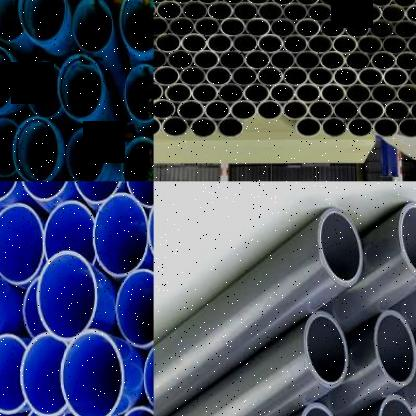pipe: (59, 328, 123, 416), (36, 251, 98, 341), (93, 192, 149, 277), (20, 333, 67, 416), (0, 203, 44, 284), (44, 200, 97, 266), (318, 209, 363, 286), (304, 310, 348, 388), (373, 310, 416, 388), (12, 116, 60, 182), (115, 269, 154, 348), (57, 54, 102, 119), (0, 333, 27, 415), (65, 127, 105, 181), (71, 0, 111, 52), (25, 62, 62, 117), (18, 0, 65, 42), (119, 0, 153, 52), (124, 64, 154, 121), (122, 136, 154, 181), (398, 202, 416, 280), (71, 181, 124, 204), (0, 117, 18, 177), (0, 44, 16, 111), (0, 0, 25, 42), (18, 182, 72, 200), (377, 394, 416, 416), (126, 181, 153, 208), (298, 402, 342, 416), (190, 117, 217, 139), (217, 117, 244, 139), (177, 100, 205, 121), (161, 117, 190, 137), (205, 66, 232, 87), (194, 16, 221, 37), (179, 66, 206, 87), (193, 49, 220, 70), (167, 49, 194, 70), (230, 100, 257, 121), (357, 67, 384, 88), (321, 117, 348, 138), (382, 67, 409, 88), (243, 83, 270, 104), (181, 0, 208, 21), (269, 83, 296, 104), (204, 100, 231, 121), (164, 83, 192, 103), (257, 100, 283, 121), (154, 66, 180, 87), (169, 16, 195, 37), (232, 66, 258, 87), (233, 1, 259, 22), (307, 34, 333, 55), (347, 117, 373, 138), (219, 49, 245, 70), (296, 117, 322, 138), (156, 0, 182, 21), (333, 100, 359, 121), (258, 1, 284, 22), (308, 100, 334, 121), (218, 83, 244, 104), (320, 18, 346, 39), (192, 83, 218, 104), (206, 33, 233, 53), (207, 1, 234, 21), (370, 51, 397, 71), (345, 84, 372, 104), (283, 33, 308, 54), (270, 50, 295, 71), (270, 17, 295, 38), (245, 49, 270, 70), (295, 18, 320, 39), (382, 35, 407, 56), (333, 67, 358, 88), (283, 2, 308, 23), (245, 17, 270, 38), (296, 83, 321, 104), (232, 33, 258, 53), (373, 118, 399, 138), (181, 33, 207, 53), (220, 17, 246, 37), (257, 67, 283, 87), (345, 51, 371, 71), (308, 67, 334, 87), (332, 3, 358, 23), (369, 19, 395, 39), (307, 3, 333, 23), (357, 35, 383, 55), (320, 51, 346, 71), (371, 84, 397, 104), (257, 34, 284, 53), (283, 100, 308, 120), (295, 51, 320, 71), (345, 19, 370, 39), (283, 67, 308, 87), (359, 101, 384, 121), (385, 101, 410, 121), (321, 84, 346, 104), (155, 33, 181, 52), (154, 98, 176, 120), (381, 4, 406, 23), (332, 36, 358, 54), (393, 19, 416, 39), (357, 4, 382, 22), (394, 51, 416, 71), (395, 83, 416, 103), (0, 181, 19, 203), (113, 406, 154, 416), (398, 117, 416, 138), (21, 409, 69, 416), (154, 16, 168, 36), (154, 49, 168, 69), (154, 81, 164, 102), (406, 35, 416, 56), (405, 4, 416, 23), (368, 0, 392, 7), (392, 0, 416, 7), (408, 67, 416, 87), (343, 0, 369, 6), (318, 0, 343, 6), (294, 0, 319, 6), (154, 116, 161, 137), (409, 100, 416, 121), (269, 0, 295, 5), (245, 0, 270, 5), (168, 0, 195, 4), (194, 0, 220, 4), (219, 0, 245, 4), (153, 0, 169, 4)
